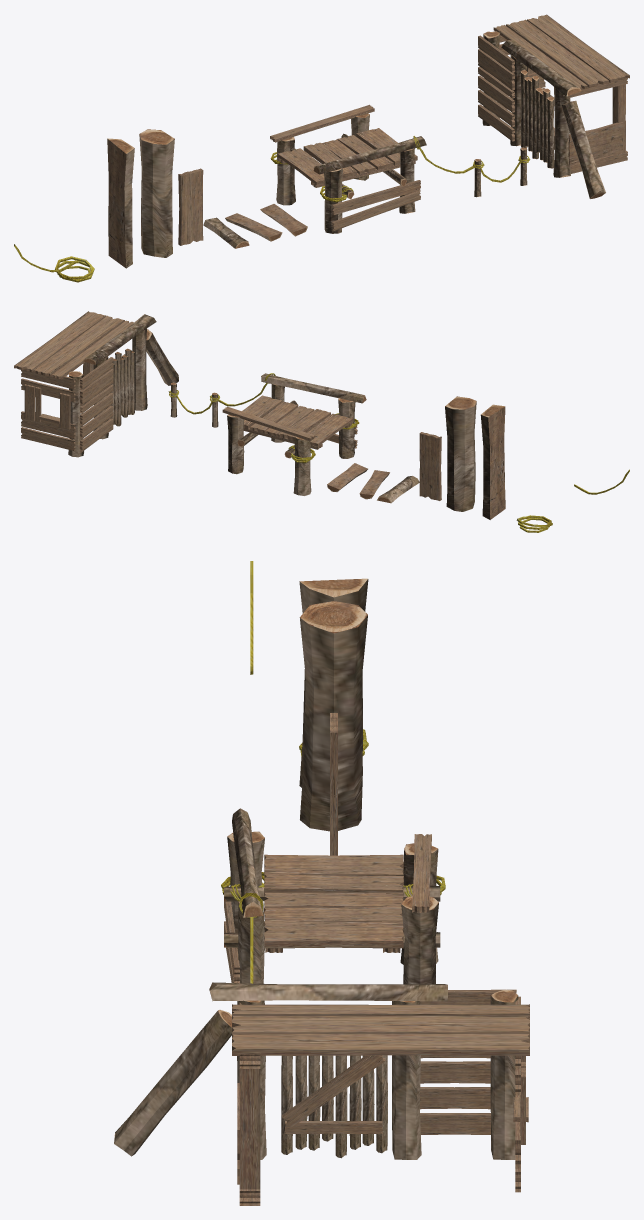
Rendered from wood_build.fbx.
The picture shows the model from 3 angles, top to bottom: view 1: azimuth 30°, elevation 25°; view 2: azimuth 150°, elevation 25°; view 3: azimuth 270°, elevation 25°; orthographic projection. The views are drawn at different scales.
Parts seen in each view (by area): view 1: Cylinder, Cylinder.007, Cube.028, Cube.029, Cube, Cylinder.017, Cube.026, Cylinder.014, Cylinder.016, Cylinder.012, Cube.006, Cylinder.001 (+26 smaller); view 2: Cylinder, Cylinder.007, Cube, Cube.028, Cube.029, Cylinder.014, Cylinder.016, Cylinder.012, Cylinder.001, Cylinder.002, Cylinder.017, Cylinder.004 (+24 smaller); view 3: Cylinder, Cube.029, Cube.028, Cylinder.017, Cylinder.016, Cube.005, Cube.027, Cylinder.015, Cylinder.018, Cube.001, Cylinder.002, Cube.025 (+17 smaller).
Part boxes in pixels (x1,y1,x2,y2): Cylinder: [139, 129, 174, 257]; Cylinder.007: [107, 138, 134, 268]; Cube.028: [506, 19, 608, 87]; Cube.029: [527, 14, 629, 82]; Cube: [178, 168, 203, 245]; Cylinder.017: [560, 100, 605, 198]; Cube.026: [568, 122, 623, 165]; Cylinder.014: [553, 87, 570, 177]; Cylinder.016: [501, 40, 581, 96]; Cylinder.012: [313, 136, 426, 174]; Cube.006: [332, 180, 420, 214]; Cylinder.001: [276, 137, 295, 205]; Cylinder: [445, 396, 476, 511]; Cylinder.007: [480, 404, 505, 519]; Cube: [419, 432, 441, 500]; Cube.028: [32, 315, 124, 376]; Cube.029: [14, 311, 106, 372]; Cylinder.014: [132, 328, 147, 410]; Cylinder.016: [83, 314, 156, 364]; Cylinder.012: [261, 373, 366, 403]; Cylinder.001: [293, 436, 311, 495]; Cylinder.002: [227, 414, 244, 474]; Cylinder.017: [146, 329, 178, 385]; Cylinder.004: [338, 398, 355, 458]; Cylinder: [299, 601, 367, 831]; Cube.029: [232, 1033, 529, 1055]; Cube.028: [232, 1015, 529, 1033]; Cylinder.017: [114, 1010, 231, 1156]; Cylinder.016: [209, 982, 447, 1001]; Cube.005: [264, 921, 403, 948]; Cube.027: [232, 1004, 529, 1015]; Cylinder.015: [392, 1001, 421, 1159]; Cylinder.018: [490, 989, 518, 1159]; Cube.001: [264, 854, 403, 879]; Cylinder.002: [401, 896, 438, 984]; Cube.025: [239, 1069, 260, 1189].
Bounding box in the file's own units: 1813 × 342 × 598.
